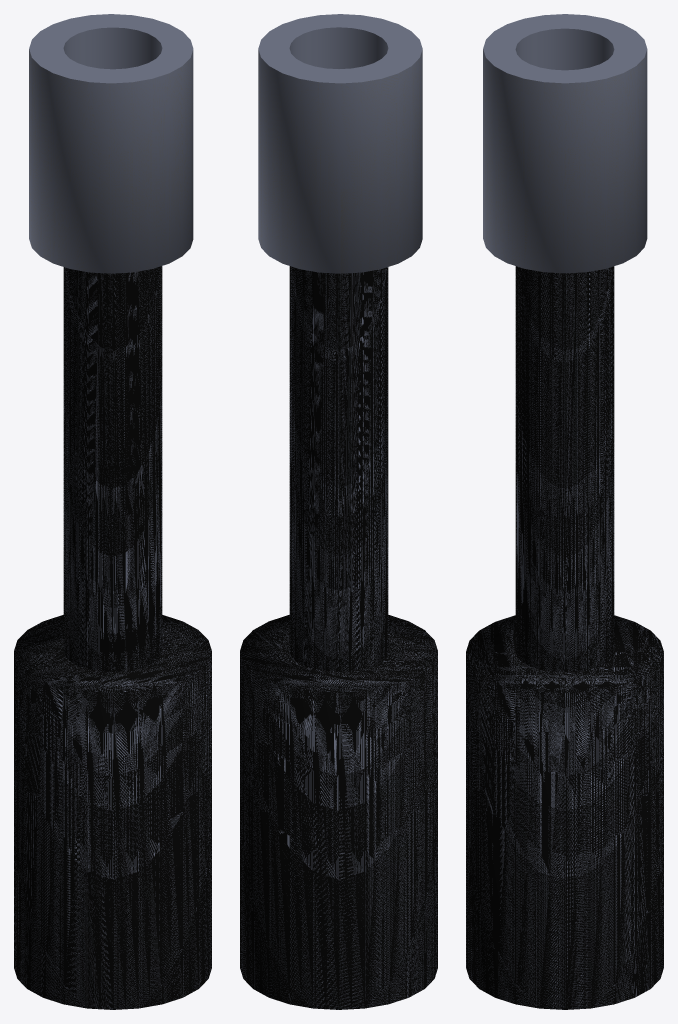
The model's file is original-19.obj.
The picture shows the model from 3 angles, left to right: view 1: azimuth 30°, elevation 25°; view 2: azimuth 150°, elevation 25°; view 3: azimuth 270°, elevation 25°; orthographic projection.
Parts seen in each view (by area): view 1: mesh17/mesh17-geometry#mesh17-geometry; view 2: mesh17/mesh17-geometry#mesh17-geometry; view 3: mesh17/mesh17-geometry#mesh17-geometry.
Boxes of the visible parts, x1=… form: mesh17/mesh17-geometry#mesh17-geometry: x1=14, y1=14, x2=211, y2=1009; mesh17/mesh17-geometry#mesh17-geometry: x1=240, y1=14, x2=437, y2=1009; mesh17/mesh17-geometry#mesh17-geometry: x1=466, y1=14, x2=663, y2=1009.
Size of the model in its own units: 0.0527 by 0.2703 by 0.0527.
